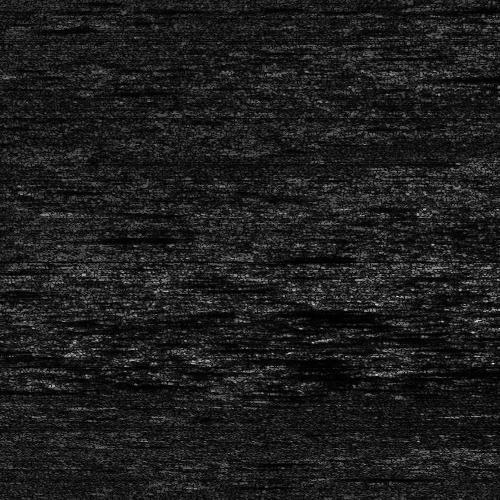object: (25, 234, 108, 243), (361, 72, 444, 79), (350, 365, 433, 372), (230, 252, 293, 259), (47, 209, 130, 214), (377, 3, 450, 8)
shadow: (67, 234, 174, 243), (392, 365, 500, 372), (403, 72, 500, 79), (262, 252, 346, 259), (89, 209, 162, 214), (414, 3, 485, 8)
